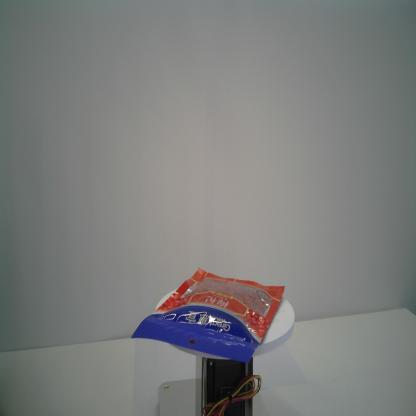Dried Fruit: (131, 268, 286, 363)
